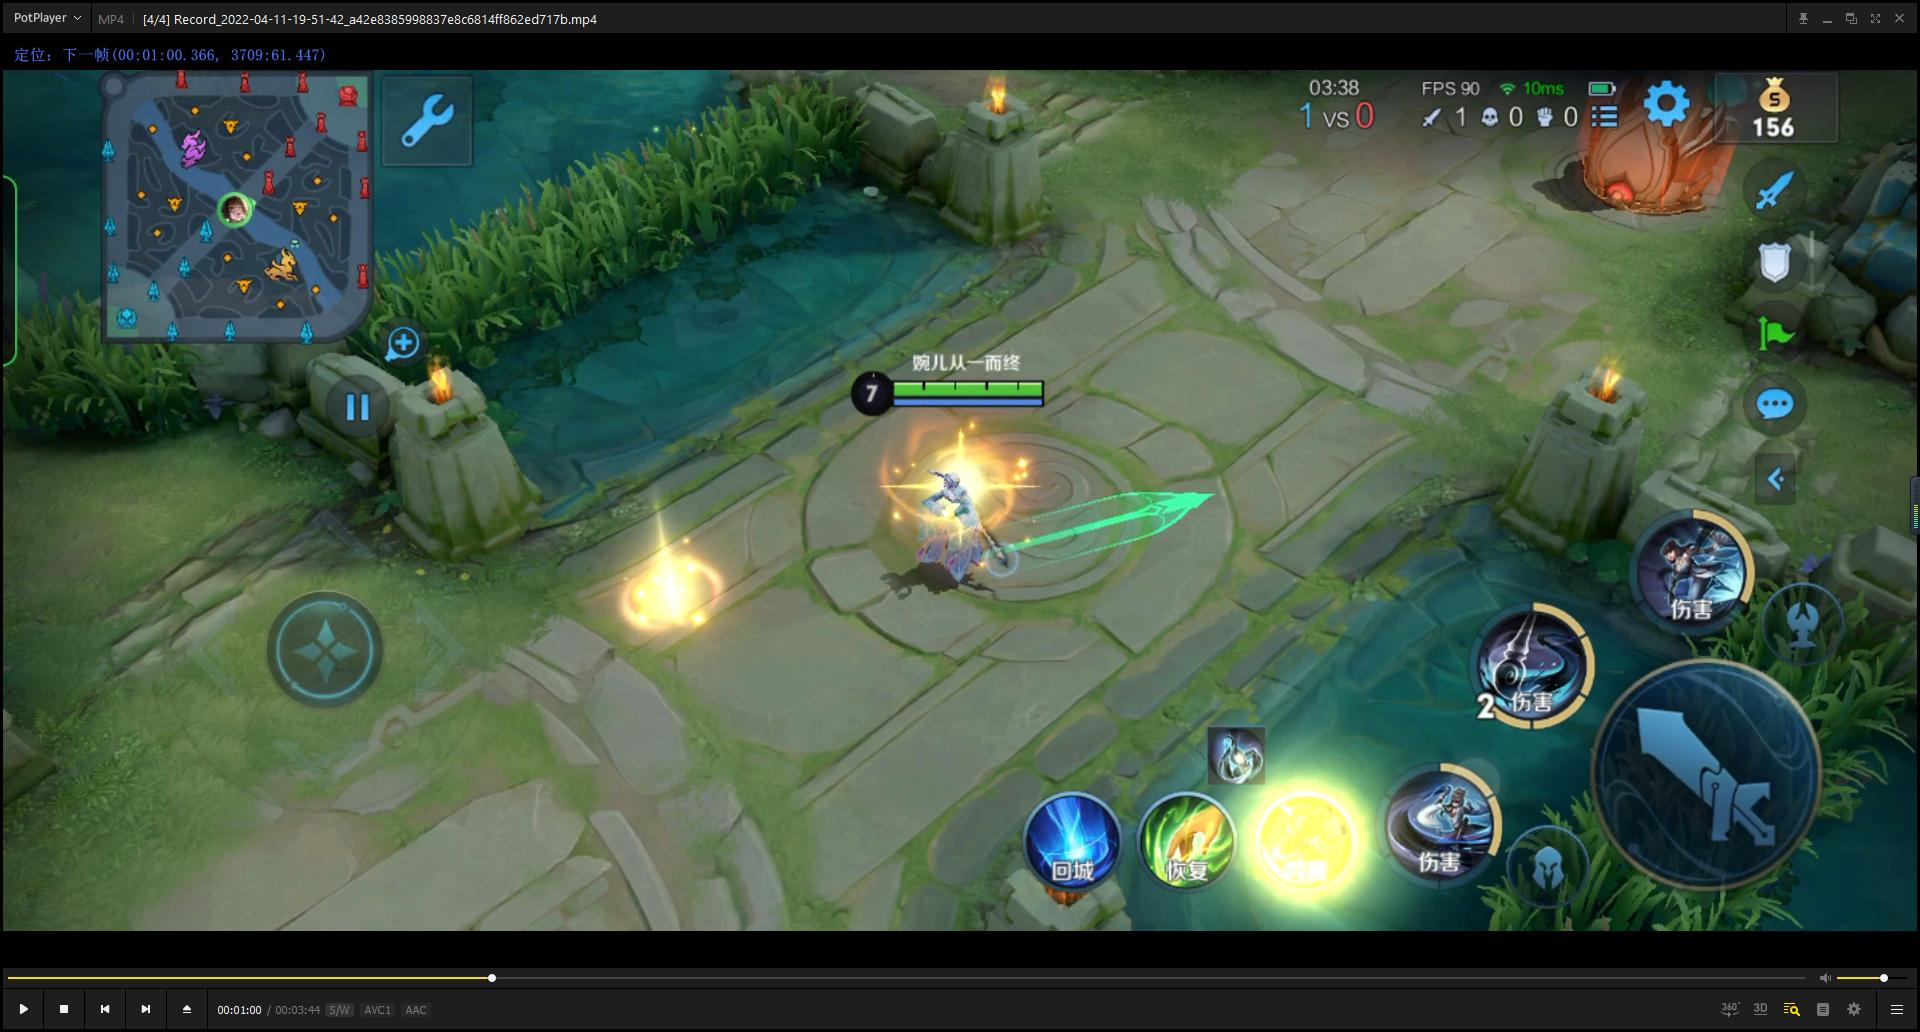Hero: (865, 427, 1036, 609)
Tower: (1543, 72, 1779, 227)
